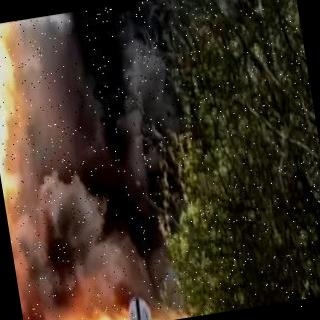smoke: (18, 0, 296, 300)
